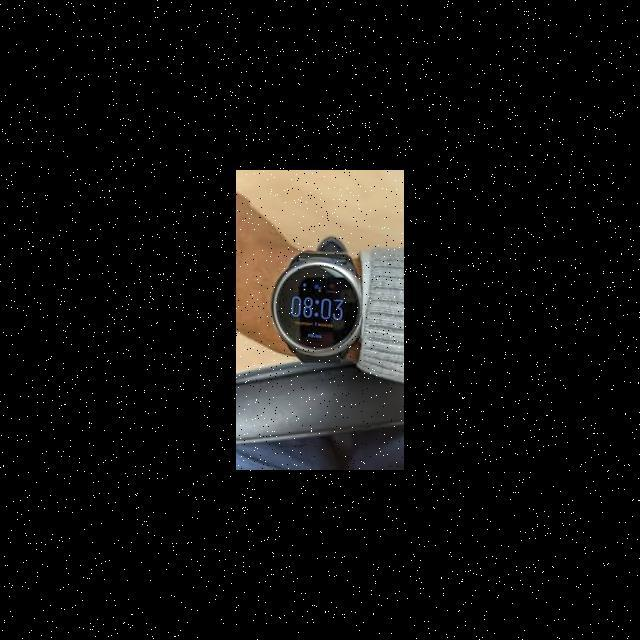watch: (253, 221, 385, 404)
